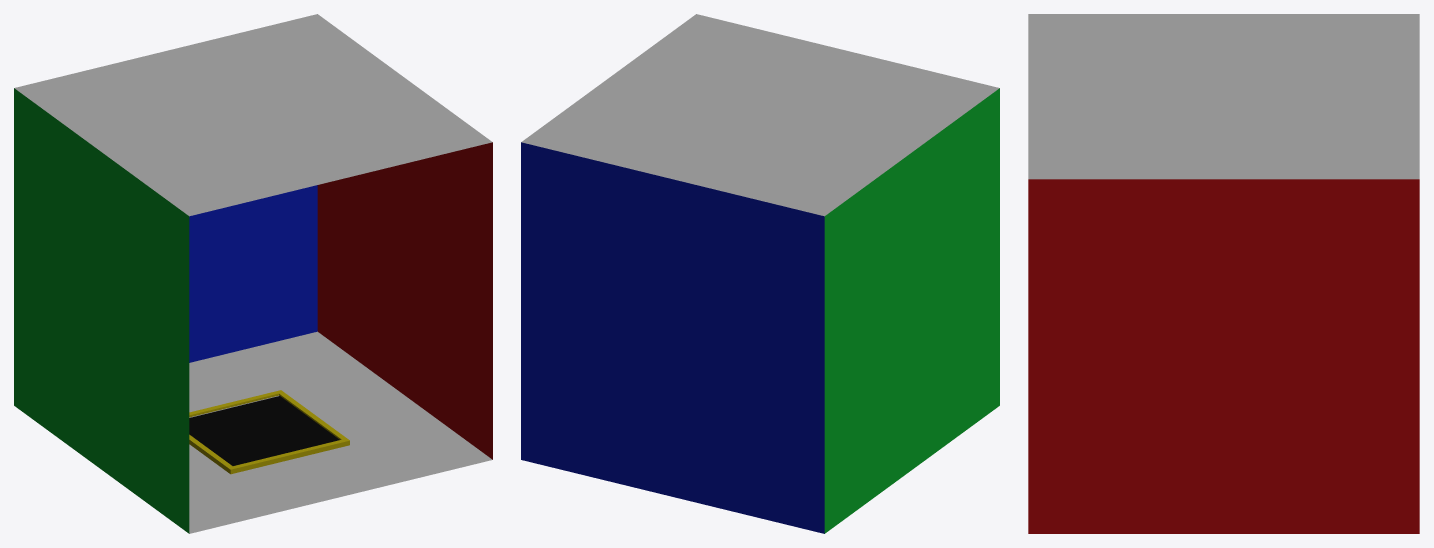
The model's file is tudox2.obj.
3 views of the same model, side by side, from view 1: azimuth 30°, elevation 25°; view 2: azimuth 150°, elevation 25°; view 3: azimuth 270°, elevation 25° (orthographic). The views are drawn at different scales.
Parts seen in each view (by area): view 1: right_wall_Plane.002_wall3_right_wall_right_wall_Plane.002_.000, floor_Plane_Floor_floor_floor_Plane_Floor_floor_floor.001, left_wall_Plane.001_wall1_left_wall_left_wall_Plane.001_wal.000, teto_Plane.006_Teto_teto_teto_Plane.006_Teto_teto_teto.001, back_wall_Plane.003_wall2_back_wall.001_back_wall_Plane.003.000, light_Plane.004_Plane_ligth_light_Plane.004_Plane_ligth_lig.000, None_Cube.001_Material.000; view 2: back_wall_Plane.003_wall2_back_wall.001_back_wall_Plane.003.000, right_wall_Plane.002_wall3_right_wall_right_wall_Plane.002_.000, floor_Plane_Floor_floor_floor_Plane_Floor_floor_floor.001; view 3: left_wall_Plane.001_wall1_left_wall_left_wall_Plane.001_wal.000, floor_Plane_Floor_floor_floor_Plane_Floor_floor_floor.001.
Boxes of the visible parts, x1=… form: right_wall_Plane.002_wall3_right_wall_right_wall_Plane.002_.000: x1=14, y1=88, x2=189, y2=533; floor_Plane_Floor_floor_floor_Plane_Floor_floor_floor.001: x1=14, y1=14, x2=492, y2=216; left_wall_Plane.001_wall1_left_wall_left_wall_Plane.001_wal.000: x1=317, y1=142, x2=492, y2=459; teto_Plane.006_Teto_teto_teto_Plane.006_Teto_teto_teto.001: x1=189, y1=331, x2=492, y2=533; back_wall_Plane.003_wall2_back_wall.001_back_wall_Plane.003.000: x1=189, y1=185, x2=317, y2=362; light_Plane.004_Plane_ligth_light_Plane.004_Plane_ligth_lig.000: x1=189, y1=396, x2=339, y2=465; None_Cube.001_Material.000: x1=189, y1=390, x2=349, y2=474; back_wall_Plane.003_wall2_back_wall.001_back_wall_Plane.003.000: x1=521, y1=142, x2=824, y2=533; right_wall_Plane.002_wall3_right_wall_right_wall_Plane.002_.000: x1=824, y1=88, x2=999, y2=533; floor_Plane_Floor_floor_floor_Plane_Floor_floor_floor.001: x1=521, y1=14, x2=999, y2=216; left_wall_Plane.001_wall1_left_wall_left_wall_Plane.001_wal.000: x1=1028, y1=179, x2=1419, y2=533; floor_Plane_Floor_floor_floor_Plane_Floor_floor_floor.001: x1=1028, y1=14, x2=1419, y2=179.
Size of the model in its own units: 15.64 by 15.66 by 15.64.
